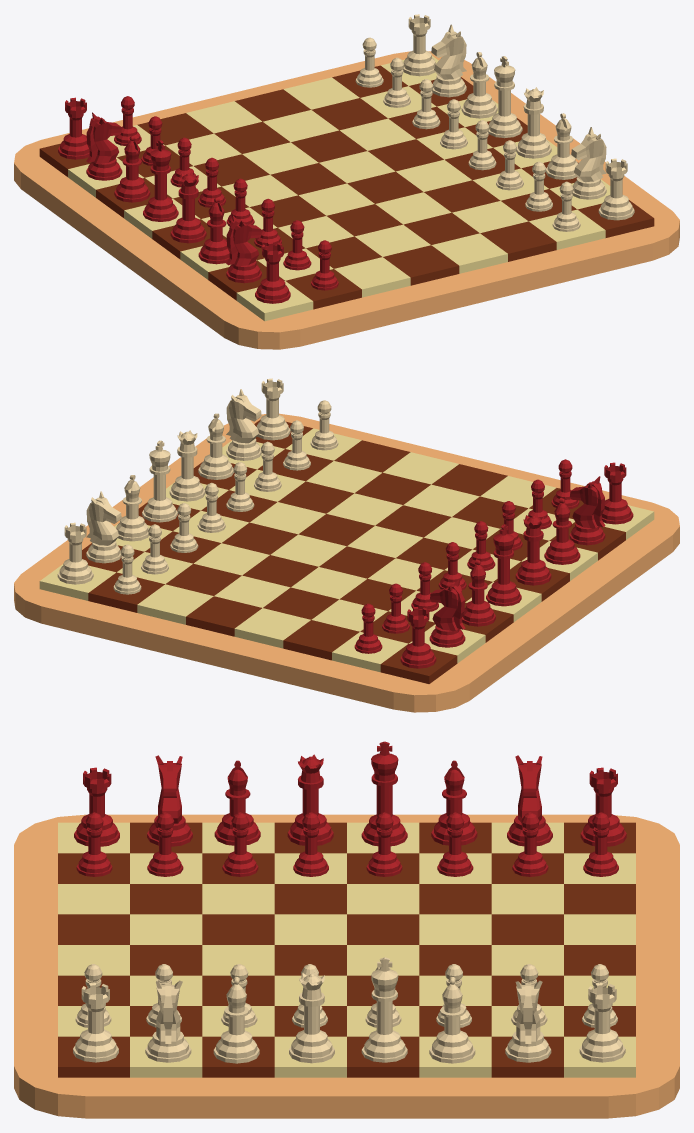
The model's file is chess_scene.gltf.
The picture shows the model from 3 angles, top to bottom: view 1: azimuth 30°, elevation 25°; view 2: azimuth 150°, elevation 25°; view 3: azimuth 270°, elevation 25°; orthographic projection. The views are drawn at different scales.
Visible parts, largest first — view 1: Board, Knight, Knight.001, Knight.003, Knight.002, King.002, King, Queen.001, Queen, Rook, Rook.002, Rook.001 (+21 smaller); view 2: Board, Knight.001, Knight, Knight.003, Knight.002, King.002, King, Queen.001, Queen, Rook.003, Rook.001, Rook (+20 smaller); view 3: Board, King, Queen, Knight.001, Knight, Rook.001, King.002, Rook, Bishop.003, Bishop, Knight.003, Knight.002 (+17 smaller).
Part boxes in pixels (box(x1,y1,x2,y2)): Board: box(14, 51, 679, 349); Knight: box(571, 127, 606, 199); Knight.001: box(431, 24, 466, 97); Knight.003: box(86, 112, 122, 180); Knight.002: box(226, 215, 261, 283); King.002: box(143, 140, 178, 221); King: box(488, 56, 522, 138); Queen.001: box(170, 172, 206, 243); Queen: box(516, 87, 551, 158); Rook: box(598, 158, 634, 220); Rook.002: box(255, 242, 290, 303); Rook.001: box(402, 14, 435, 76); Board: box(14, 413, 679, 712); Knight.001: box(86, 491, 121, 563); Knight: box(226, 389, 261, 460); Knight.003: box(429, 578, 465, 647); Knight.002: box(569, 476, 605, 545); King.002: box(486, 524, 521, 606); King: box(142, 440, 177, 522); Queen.001: box(515, 514, 551, 585); Queen: box(169, 430, 205, 501); Rook.003: box(400, 607, 436, 668); Rook.001: box(57, 522, 93, 584); Rook: box(256, 378, 290, 440); Board: box(14, 814, 679, 1118); King: box(361, 957, 407, 1062); Queen: box(289, 971, 334, 1063); Knight.001: box(505, 980, 551, 1062); Knight: box(145, 980, 191, 1062); Rook.001: box(579, 983, 625, 1062); King.002: box(361, 741, 407, 846); Rook: box(73, 983, 118, 1062); Bishop.003: box(429, 977, 475, 1063); Bishop: box(213, 977, 259, 1063); Knight.003: box(507, 755, 552, 846); Knight.002: box(147, 755, 192, 846).
Bounding box in the file's own units: 1593 × 339 × 1593.
